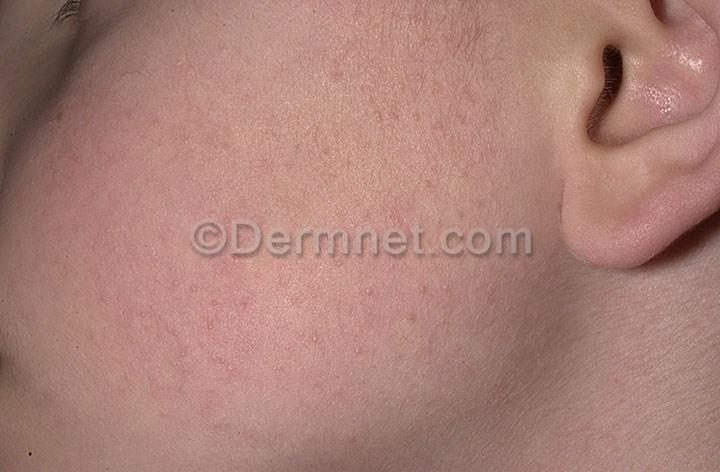edema 1: (64, 206, 469, 412)
